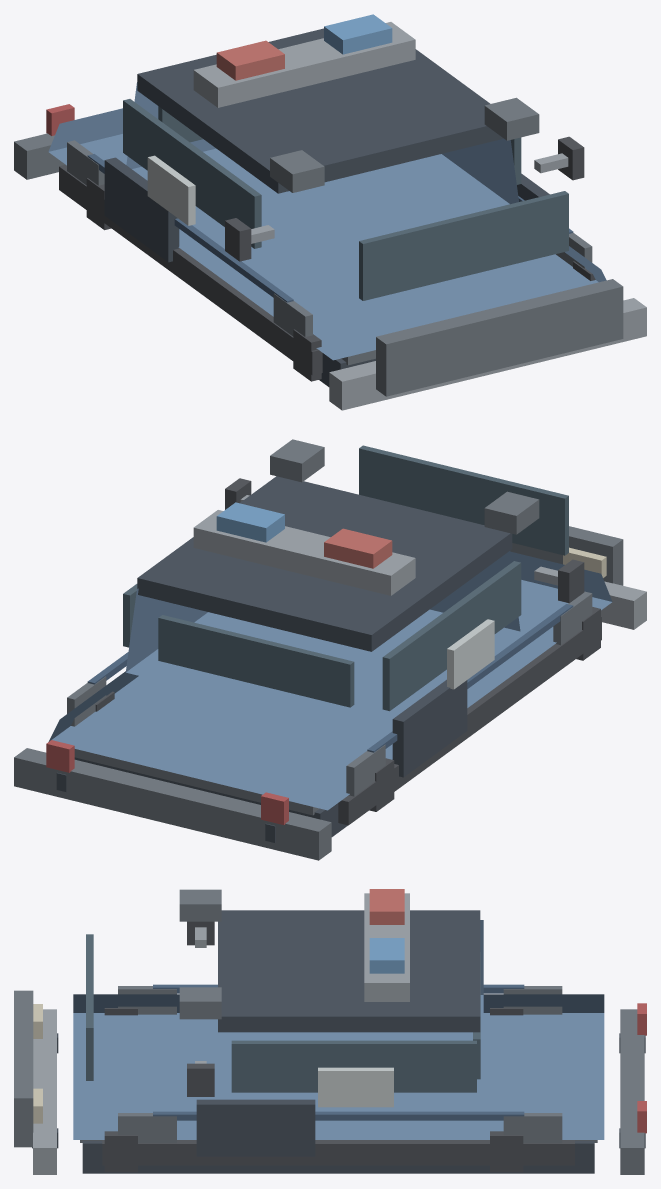
File: sentinel.glb
The picture shows the model from 3 angles, top to bottom: view 1: azimuth 30°, elevation 25°; view 2: azimuth 150°, elevation 25°; view 3: azimuth 270°, elevation 25°; orthographic projection. The views are drawn at different scales.
Parts seen in each view (by area): view 1: sentinel_batch01, sentinel_batch00, sentinel_batch02, sentinel_batch08, sentinel_batch05, sentinel_batch03, sentinel_batch09, sentinel_batch11, sentinel_batch10, sentinel_batch04, sentinel_batch07; view 2: sentinel_batch01, sentinel_batch00, sentinel_batch08, sentinel_batch02, sentinel_batch05, sentinel_batch03, sentinel_batch09, sentinel_batch04, sentinel_batch11, sentinel_batch10, sentinel_batch07, sentinel_batch06; view 3: sentinel_batch01, sentinel_batch00, sentinel_batch02, sentinel_batch03, sentinel_batch08, sentinel_batch05, sentinel_batch09, sentinel_batch04, sentinel_batch10, sentinel_batch11, sentinel_batch06, sentinel_batch07.
Part boxes in pixels (x1,y1,x2,y2): sentinel_batch01: (48, 82, 606, 360); sentinel_batch00: (104, 28, 549, 386); sentinel_batch02: (14, 97, 623, 396); sentinel_batch08: (123, 99, 568, 300); sentinel_batch05: (193, 22, 646, 410); sentinel_batch03: (59, 136, 595, 381); sentinel_batch09: (147, 155, 195, 225); sentinel_batch11: (324, 14, 392, 54); sentinel_batch10: (216, 40, 284, 80); sentinel_batch04: (87, 154, 573, 302); sentinel_batch07: (46, 104, 74, 135); sentinel_batch01: (48, 551, 612, 810); sentinel_batch00: (56, 476, 512, 842); sentinel_batch08: (123, 445, 568, 711); sentinel_batch02: (14, 439, 623, 860); sentinel_batch05: (193, 495, 646, 629); sentinel_batch03: (95, 478, 601, 825); sentinel_batch09: (447, 619, 494, 689); sentinel_batch04: (87, 604, 573, 752); sentinel_batch11: (216, 502, 284, 542); sentinel_batch10: (324, 528, 392, 568); sentinel_batch07: (46, 740, 288, 824); sentinel_batch06: (563, 547, 606, 577); sentinel_batch01: (73, 920, 604, 1139); sentinel_batch00: (32, 910, 645, 1173); sentinel_batch02: (14, 889, 644, 1174); sentinel_batch03: (102, 921, 574, 1172); sentinel_batch08: (86, 934, 480, 1092); sentinel_batch05: (33, 893, 409, 1174); sentinel_batch09: (318, 1067, 393, 1107); sentinel_batch04: (153, 984, 524, 1120); sentinel_batch10: (369, 889, 404, 924); sentinel_batch11: (369, 938, 404, 973); sentinel_batch06: (33, 1004, 42, 1123); sentinel_batch07: (637, 1003, 646, 1133).
Size of the model in its own units: 5.37 by 3.05 by 9.17.
